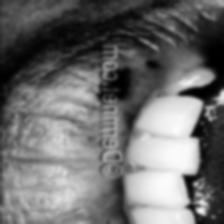Potentially Malignant Skin Tumors: (98, 68, 132, 100)
